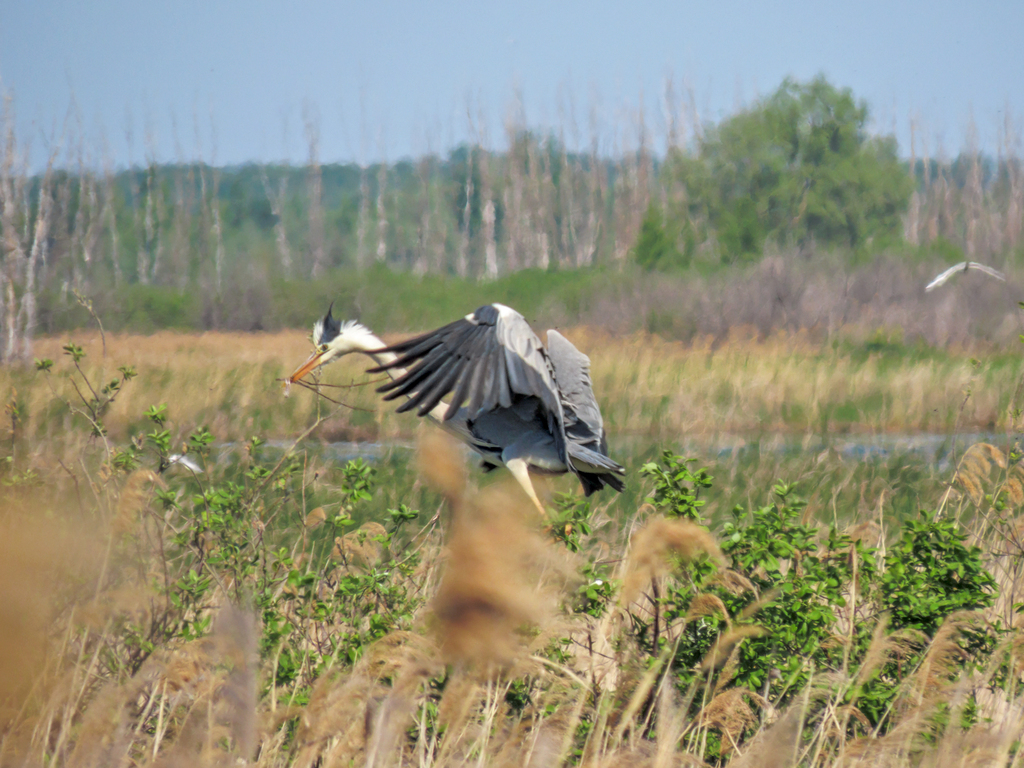heron: (288, 303, 630, 566)
